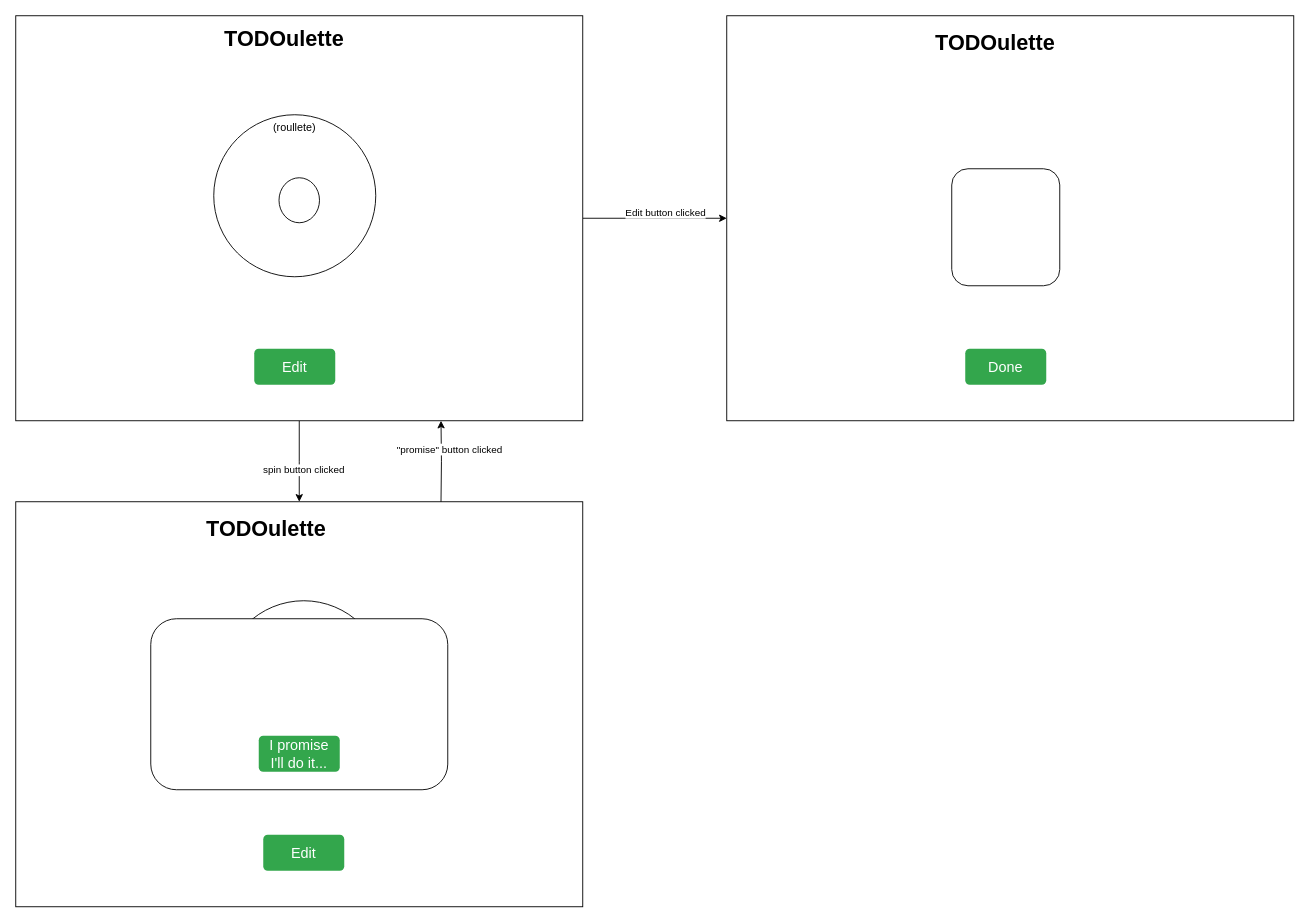
This 1310x923 diagram has some shape labels left out. Each missing label, with the centre of its shape:
"item1 item2 item3 item4" belongs at pixel 1005 227.
"spin" belongs at pixel 299 200.
"You'll do: item 2 [JUST DO IT gif]" belongs at pixel 299 704.
